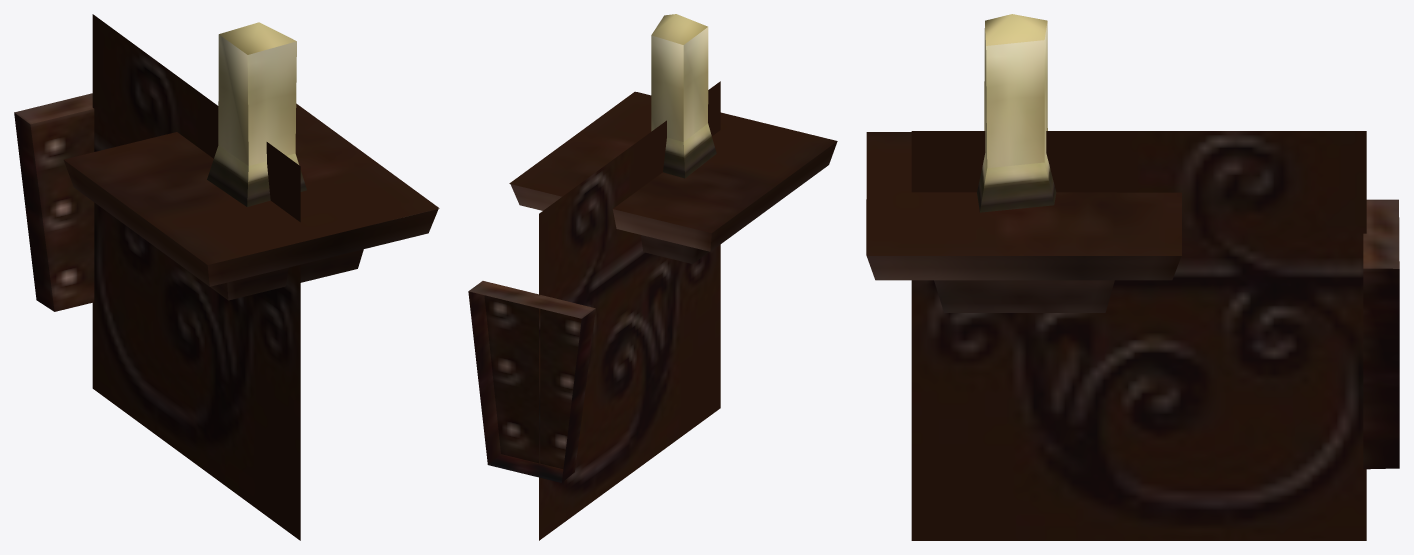
The model's file is lamp_candle.fbx.
3 renders of one model, left to right at view 1: azimuth 30°, elevation 25°; view 2: azimuth 150°, elevation 25°; view 3: azimuth 270°, elevation 25°, orthographic. The views are drawn at different scales.
Visible parts, largest first — view 1: LightSupport, base, LightAttachment, candle1; view 2: LightSupport, base, LightAttachment, candle1; view 3: LightSupport, base, candle1, LightAttachment.
Boxes of the visible parts, x1,y1,x2,y2 form: LightSupport: (92, 14, 300, 540); base: (63, 103, 439, 300); LightAttachment: (14, 93, 94, 311); candle1: (207, 22, 306, 206); LightSupport: (539, 81, 720, 540); base: (509, 91, 837, 263); LightAttachment: (468, 281, 595, 482); candle1: (651, 14, 716, 178); LightSupport: (911, 131, 1366, 540); base: (866, 132, 1181, 312); candle1: (977, 14, 1056, 212); LightAttachment: (1363, 199, 1399, 469).
Size of the model in its own units: 106 by 212 by 194.
2 materials, 2 textured.
